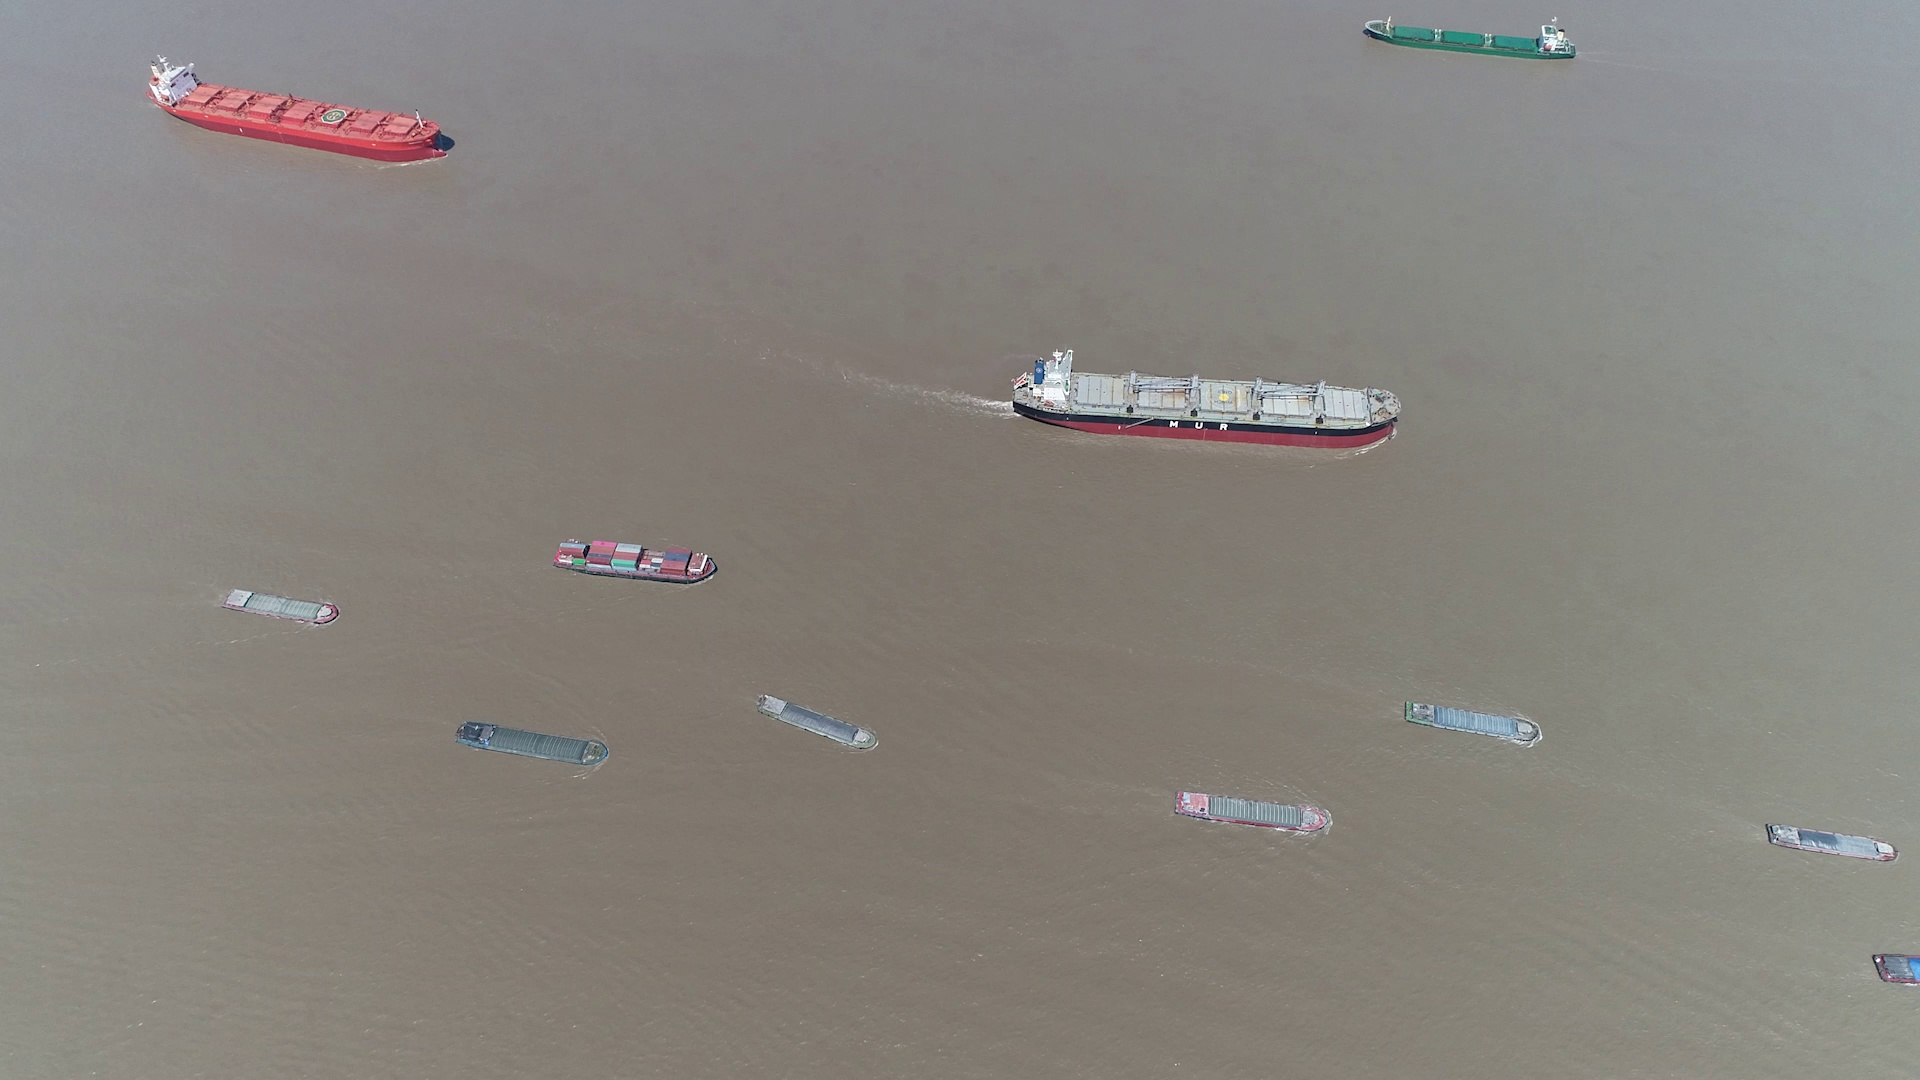ship: (1011, 353, 1398, 447), (152, 51, 448, 160), (1362, 18, 1572, 61), (553, 538, 717, 583), (459, 721, 611, 767), (760, 695, 880, 752), (1172, 793, 1332, 835), (1403, 699, 1542, 744), (1764, 824, 1898, 864), (222, 587, 340, 625), (1873, 952, 1919, 986)
